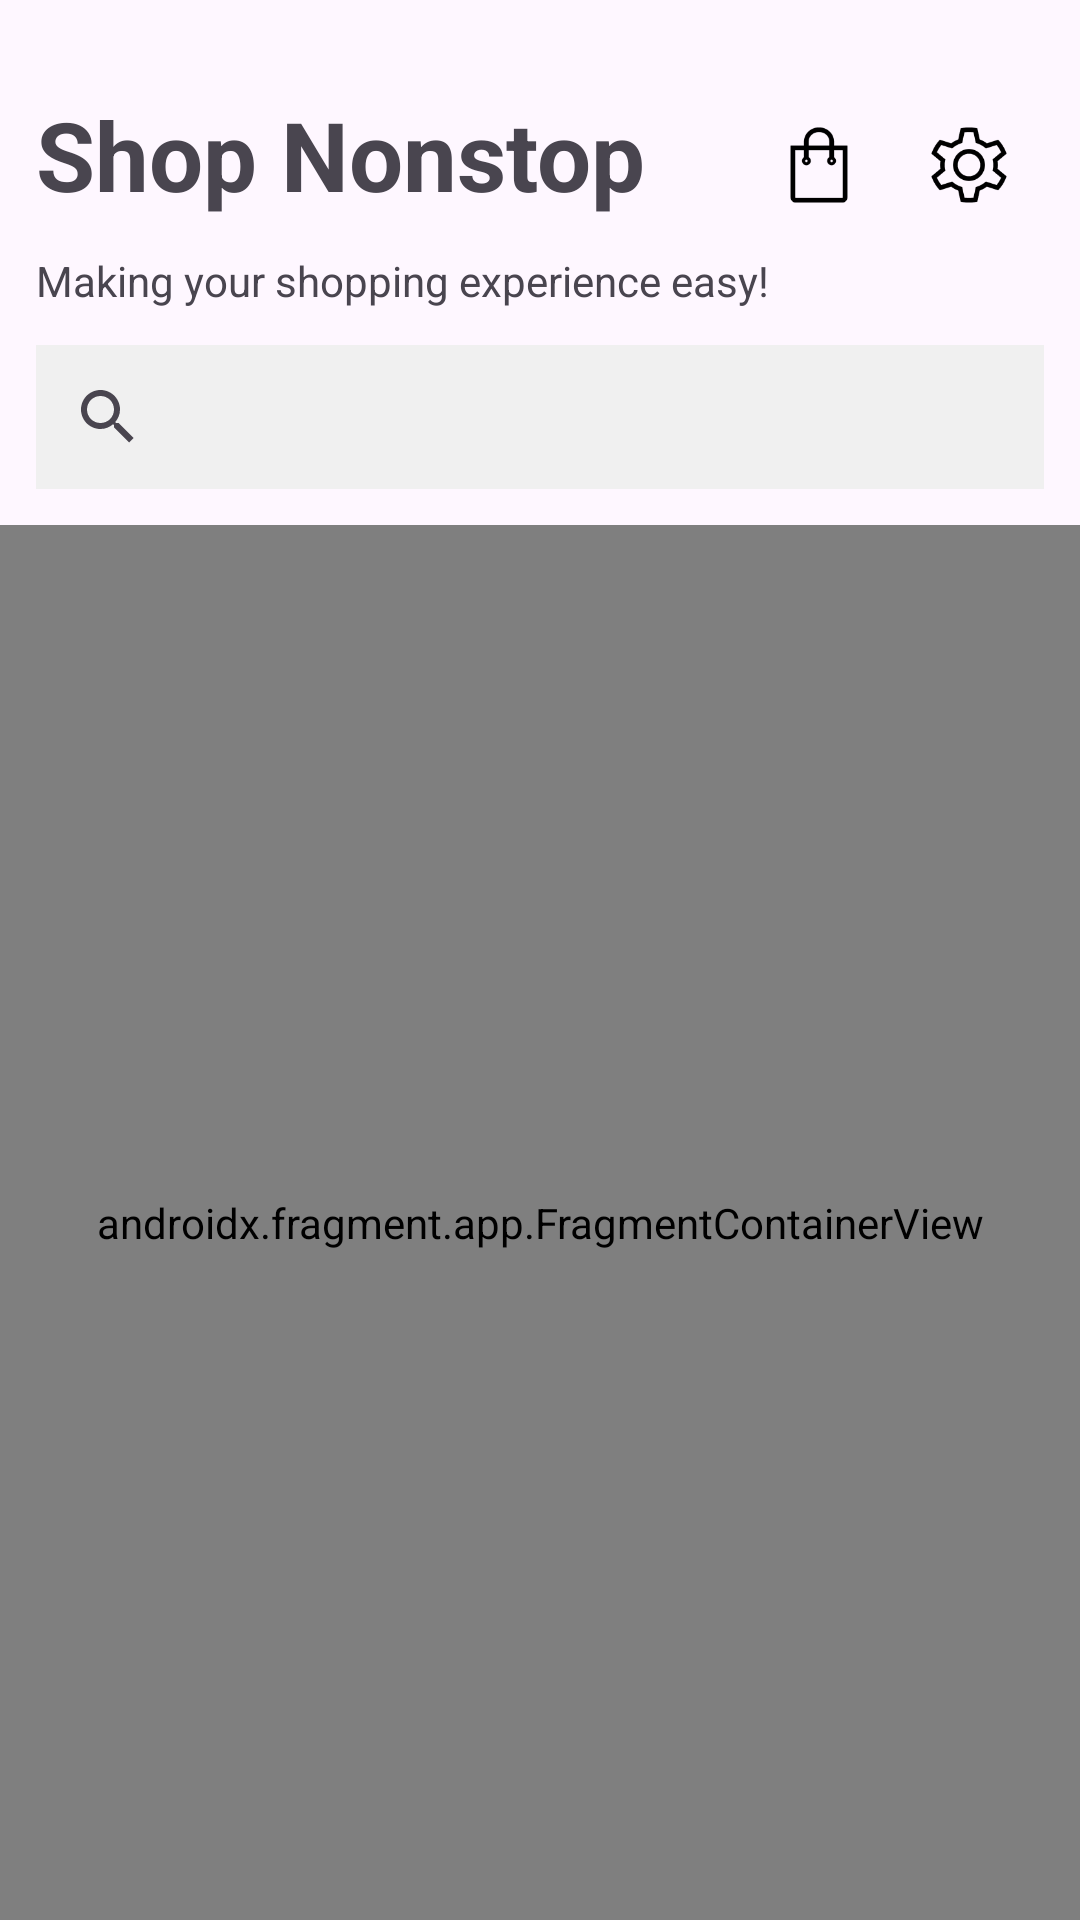

Icons on this 1080 x 1920 Android screen, each with the point to tap as (x,y):
settings: (969,165)
shopping bag: (819,165)
